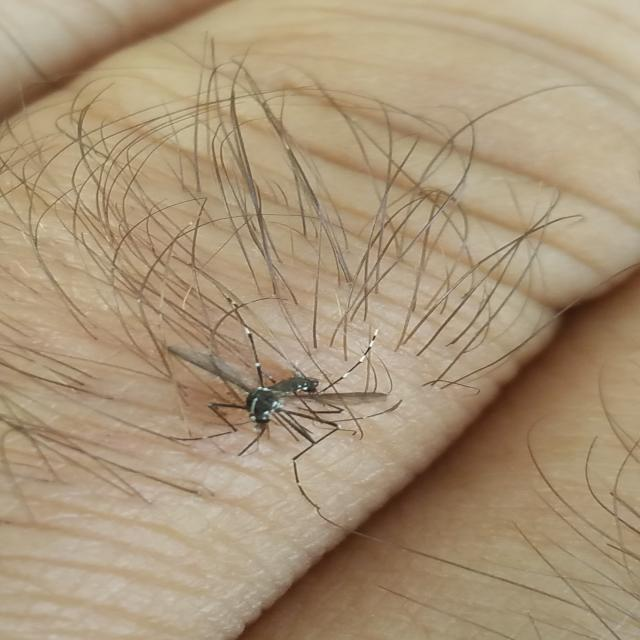albopictus: (173, 322, 407, 525)
